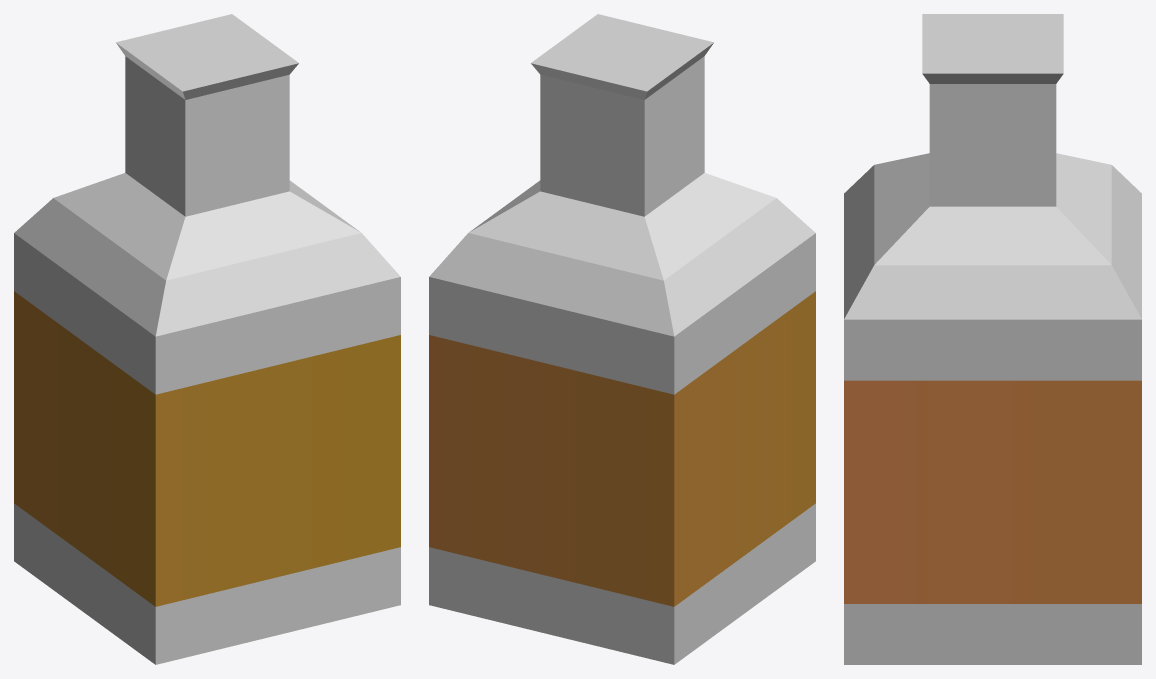
File: B01_bouteille_2_a.fbx
3 renders of one model, left to right at view 1: azimuth 30°, elevation 25°; view 2: azimuth 150°, elevation 25°; view 3: azimuth 270°, elevation 25°, orthographic. The views are drawn at different scales.
Visible parts, largest first — view 1: B01_bouteille_2_a; view 2: B01_bouteille_2_a; view 3: B01_bouteille_2_a.
Boxes of the visible parts, bbox=[...] form: B01_bouteille_2_a: bbox=[14, 14, 400, 664]; B01_bouteille_2_a: bbox=[429, 14, 815, 664]; B01_bouteille_2_a: bbox=[844, 14, 1141, 664].
Bounding box in the file's own units: 10.81 × 22.35 × 10.81.
